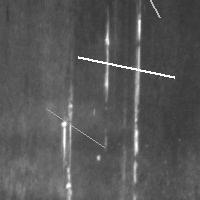scratches: (126, 10, 148, 186), (42, 104, 109, 152), (73, 52, 179, 82), (56, 97, 77, 200), (98, 14, 115, 105), (139, 0, 165, 22)
